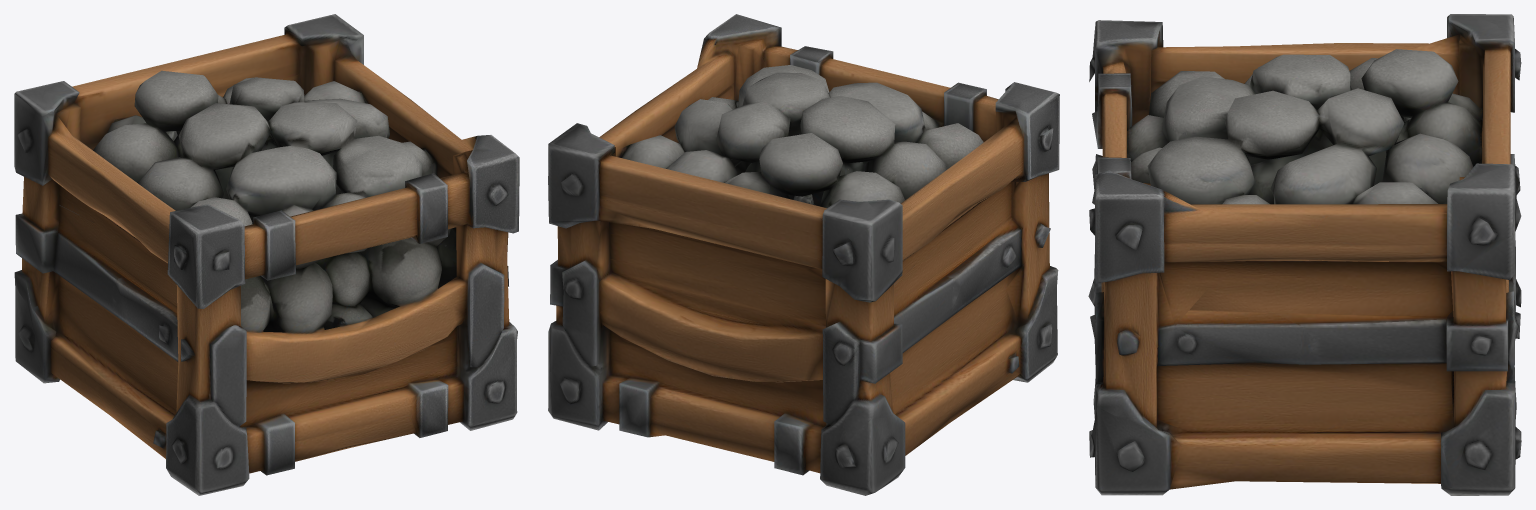
The model's file is stone storage full.glb.
3 renders of one model, left to right at view 1: azimuth 30°, elevation 25°; view 2: azimuth 150°, elevation 25°; view 3: azimuth 270°, elevation 25°, orthographic. The views are drawn at different scales.
Parts seen in each view (by area): view 1: tripo_node_9f2613aa-9c40-479c-820d-b767a02d0109; view 2: tripo_node_9f2613aa-9c40-479c-820d-b767a02d0109; view 3: tripo_node_9f2613aa-9c40-479c-820d-b767a02d0109.
Boxes of the visible parts, x1,y1,x2,y2 form: tripo_node_9f2613aa-9c40-479c-820d-b767a02d0109: [14, 14, 519, 495]; tripo_node_9f2613aa-9c40-479c-820d-b767a02d0109: [548, 14, 1059, 495]; tripo_node_9f2613aa-9c40-479c-820d-b767a02d0109: [1088, 14, 1521, 495].
Size of the model in its own units: 0.9991 by 0.838 by 1.
1 material, 1 textured.
